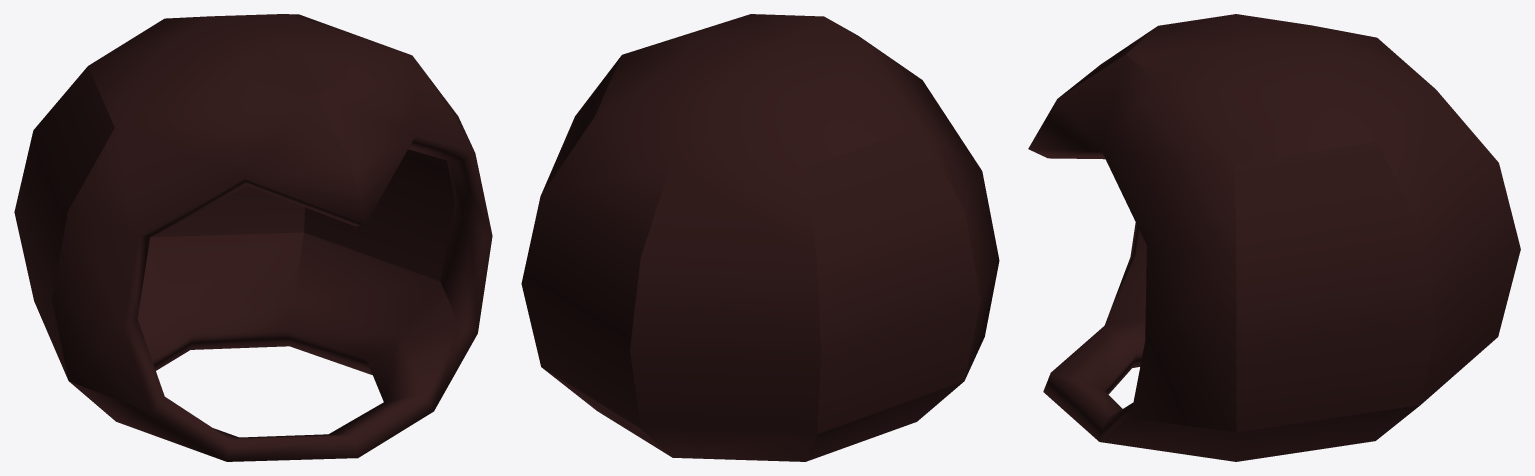
The model's file is hood.glb.
3 views of the same model, side by side, from view 1: azimuth 30°, elevation 25°; view 2: azimuth 150°, elevation 25°; view 3: azimuth 270°, elevation 25° (orthographic).
Visible parts, largest first — view 1: Sphere; view 2: Sphere; view 3: Sphere.
Boxes of the visible parts, x1,y1,x2,y2 form: Sphere: [14, 14, 492, 461]; Sphere: [521, 14, 999, 461]; Sphere: [1028, 14, 1520, 461].
Bounding box in the file's own units: 2.2 × 1.79 × 2.19.
1 material, 1 textured.
